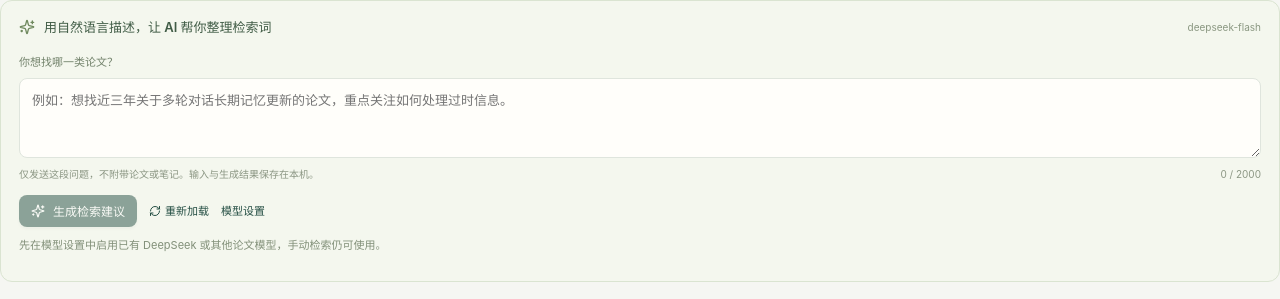
Test case: 模型未启用时给出设置入口，模型设置更新后恢复生成入口
The image size is (1280, 299).
Expected: the text "先在模型设置中启用已有 DeepSeek 或其他论文模型，手动检索仍可使用。" is shown, [19,238,387,252]
In the text box named "ACL Anthology 研究问题": [640, 118] box [19,78,1261,158], type "研究问题"
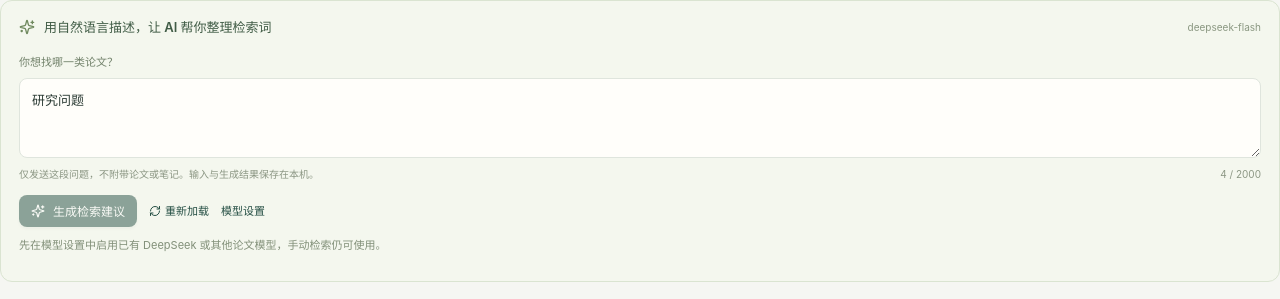
Expected: the button "生成检索建议" is disabled, [19,195,137,227]
Click the button "模型设置": [243, 211] box [221,203,265,220]
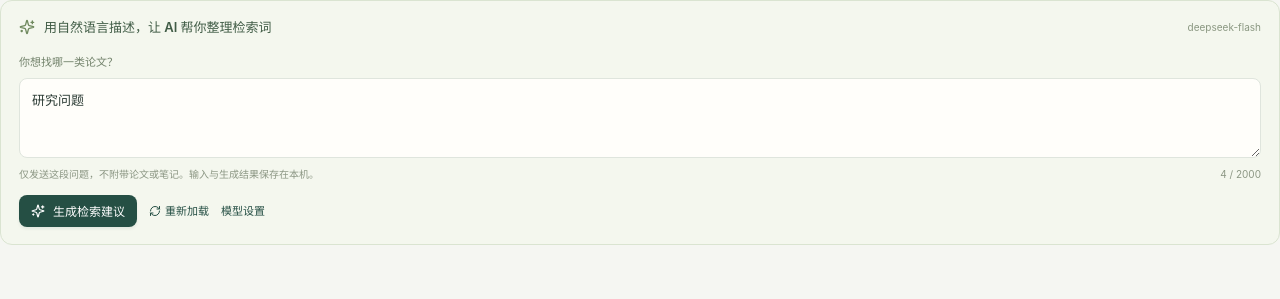
Expected: the button "生成检索建议" is enabled, [19,195,137,227]
